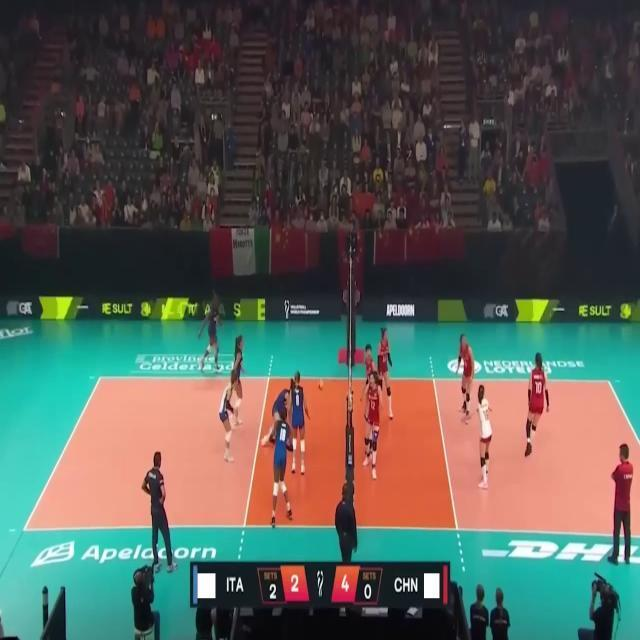volleyball: (318, 380, 326, 392)
